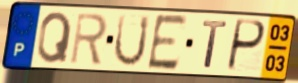E: (145, 13, 190, 72)
P: (224, 18, 268, 74)
Q: (35, 10, 74, 65)
R: (68, 11, 109, 66)
T: (200, 19, 230, 71)
U: (111, 13, 152, 69)
